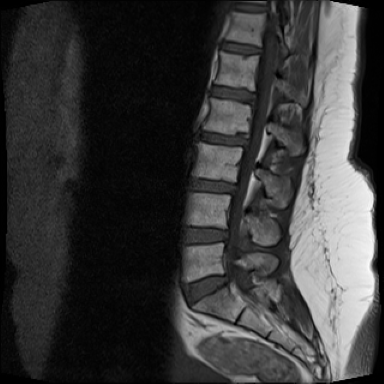Degenerative Disc Disease (DDD): (195, 126, 253, 152)
Lumbar Disc Bulge (LDB): (180, 268, 235, 310), (175, 222, 235, 249), (205, 83, 266, 109), (184, 177, 247, 196)
Normal IVD: (212, 41, 263, 58)
Spinal Stenosis (SS): (233, 131, 257, 155), (246, 87, 263, 112), (215, 225, 234, 244), (226, 179, 244, 199), (219, 266, 233, 289)
